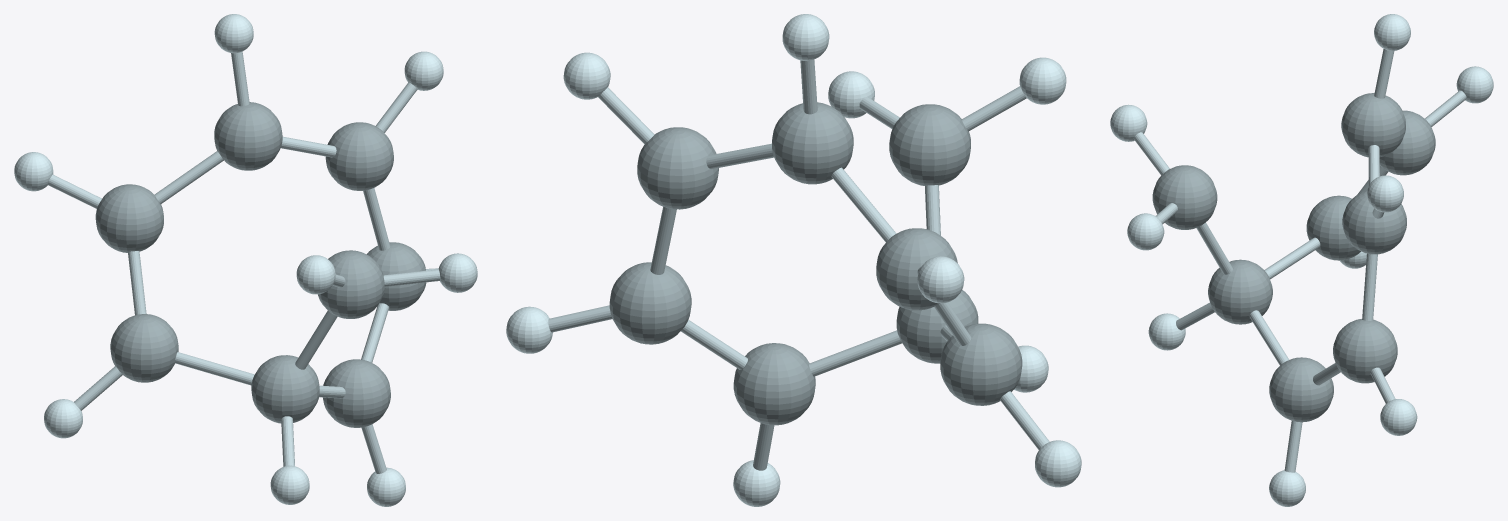
File: irc_step_121.glb
The picture shows the model from 3 angles, left to right: view 1: azimuth 30°, elevation 25°; view 2: azimuth 150°, elevation 25°; view 3: azimuth 270°, elevation 25°; orthographic projection. The views are drawn at different scales.
Visible parts, largest first — view 1: Renderer Node; view 2: Renderer Node; view 3: Renderer Node.
Boxes of the visible parts, <box> form: Renderer Node: <box>14,14,477,506</box>; Renderer Node: <box>506,14,1081,506</box>; Renderer Node: <box>1110,14,1493,506</box>.
Bounding box in the file's own units: 5.3 × 5.29 × 4.13.
